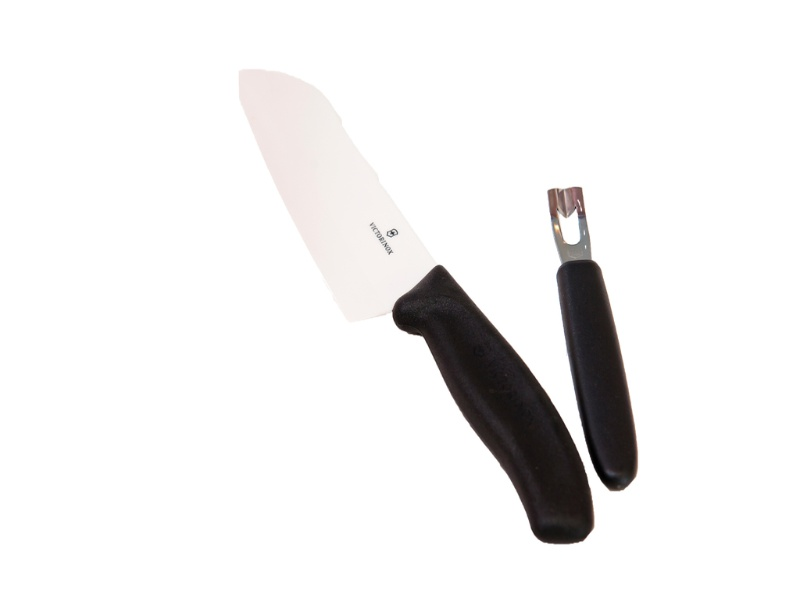wine: (5, 4, 795, 598)
